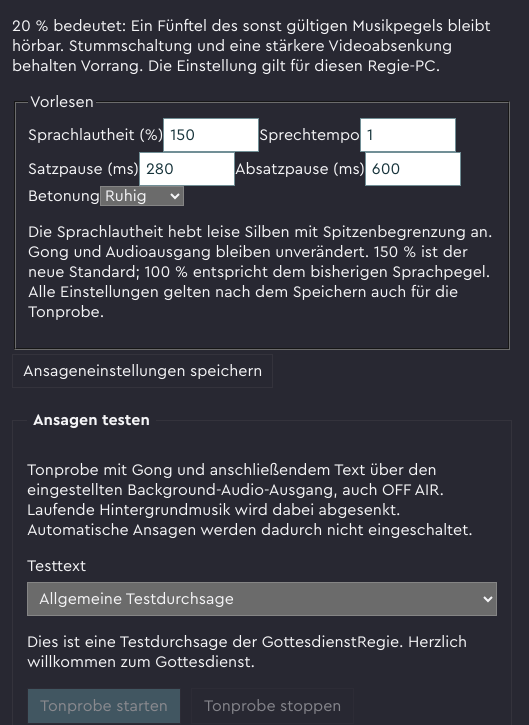
Test case: inactive announcement preparation settings › does not claim a save when native persistence fails
(page scrolled)
Click the button "Ansageneinstellungen speichern" at (143, 371), box [12,354,273,388]
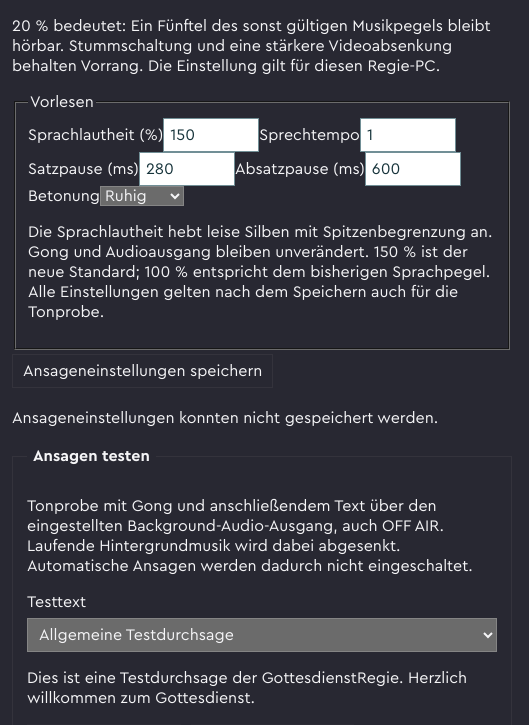
Expected: the message shows "konnten nicht gespeichert", [12,410,438,426]
